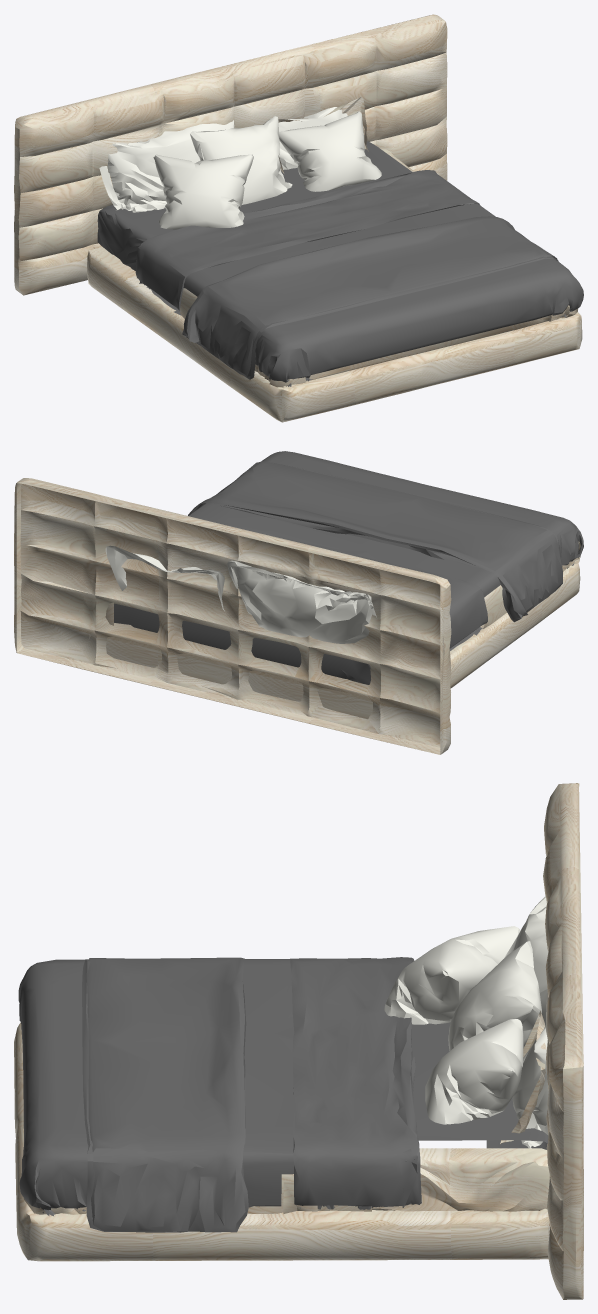
File: NFG-I0007.glb
The picture shows the model from 3 angles, top to bottom: view 1: azimuth 30°, elevation 25°; view 2: azimuth 150°, elevation 25°; view 3: azimuth 270°, elevation 25°; orthographic projection. The views are drawn at different scales.
Visible parts, largest first — view 1: Object104, Object105; view 2: Object104, Object105; view 3: Object105, Object104.
Boxes of the visible parts, left/top/right/bottom form: Object104: left=14, top=14, right=582, bottom=422; Object105: left=97, top=141, right=583, bottom=386; Object104: left=14, top=478, right=580, bottom=754; Object105: left=114, top=451, right=583, bottom=684; Object105: left=18, top=957, right=548, bottom=1232; Object104: left=14, top=783, right=583, bottom=1299.
Bounding box in the file's own units: 1.99 × 0.7708 × 1.66.
3 materials, 1 textured.
